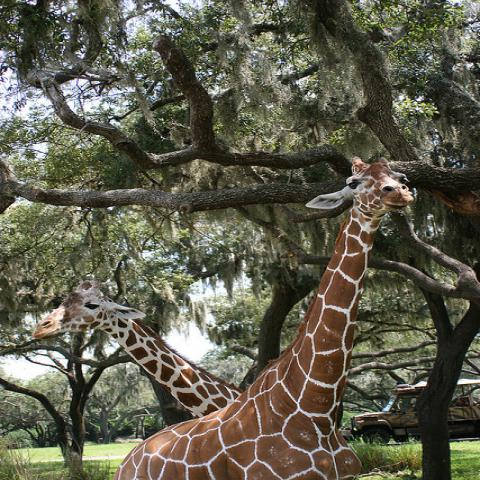truck: (353, 378, 479, 445)
